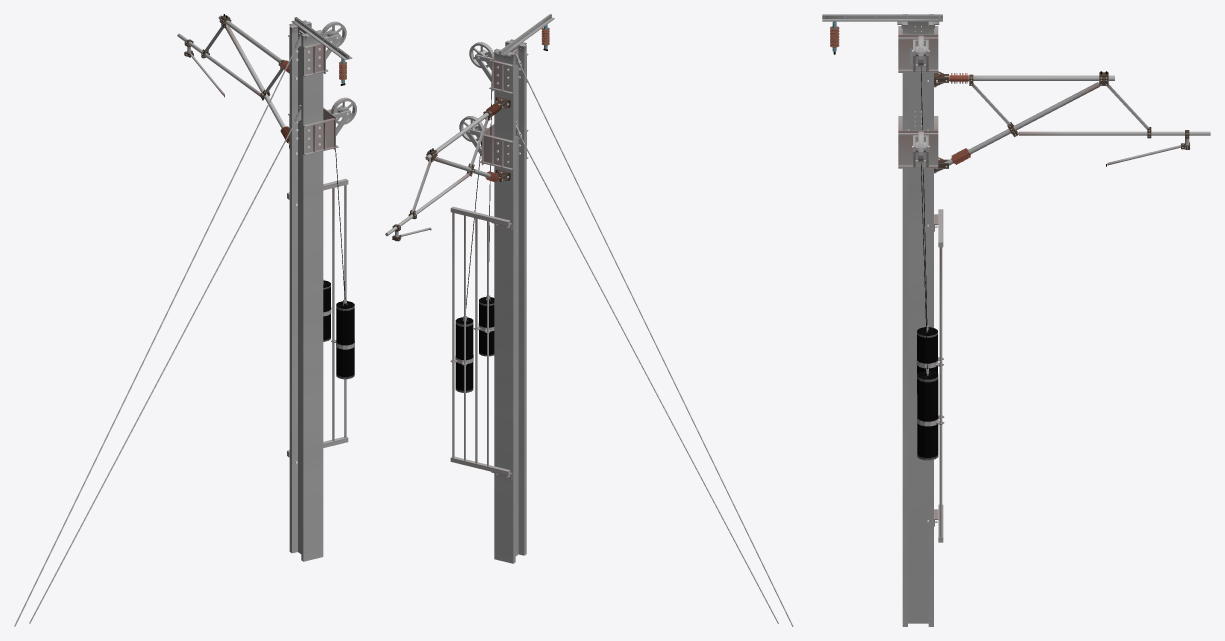
Rendered from catenary_long_counterweight_mirror.obj.
3 views of the same model, side by side, from view 1: azimuth 30°, elevation 25°; view 2: azimuth 150°, elevation 25°; view 3: azimuth 270°, elevation 25° (orthographic). The views are drawn at different scales.
Parts seen in each view (by area): view 1: cuboid, cylinder, tube; view 2: cuboid, cylinder, tube; view 3: cuboid, cylinder, tube.
Boxes of the visible parts, bbox=[...] form: cuboid: bbox=[14, 14, 352, 626]; cylinder: bbox=[177, 15, 354, 463]; tube: bbox=[322, 21, 356, 349]; cuboid: bbox=[392, 14, 793, 626]; cylinder: bbox=[385, 16, 551, 477]; tube: bbox=[455, 42, 494, 363]; cuboid: bbox=[822, 14, 1189, 626]; cylinder: bbox=[823, 16, 1210, 537]; tube: bbox=[916, 35, 938, 426].
Bounding box in the file's own units: 5.43 × 8.02 × 4.64.
1 material, 1 textured.
